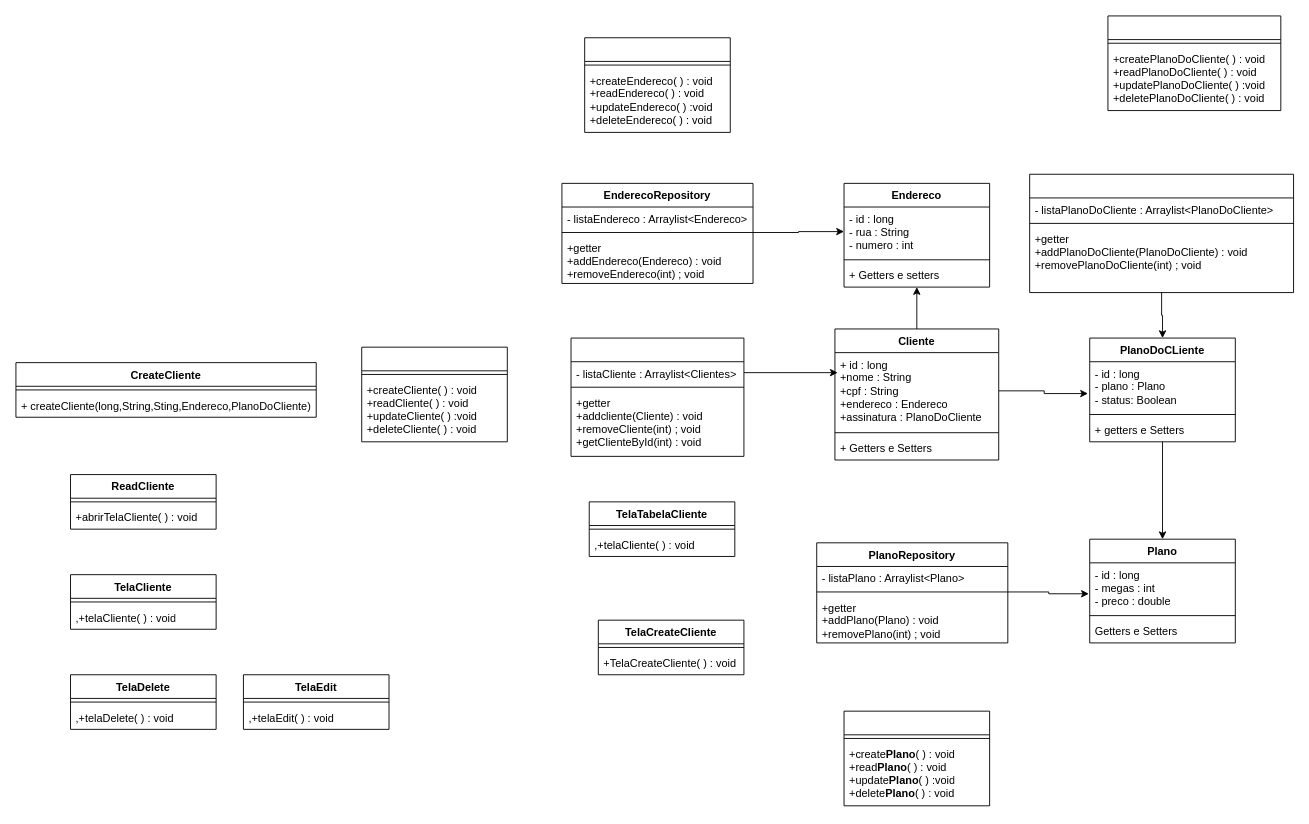
Some shapes in this 1309 by 824 pixel diagram are drawn without their labels. Each missing label, with the box of its shape:
ClienteRepository: (570, 337, 744, 456)
CRUD PlanoDoCliente: (1107, 15, 1281, 111)
CRUDCliente: (361, 346, 507, 442)
CRUDEndereco: (584, 37, 730, 132)
CRUDPlano: (843, 710, 990, 806)
PlanoDoClienteRepository: (1029, 173, 1294, 293)
